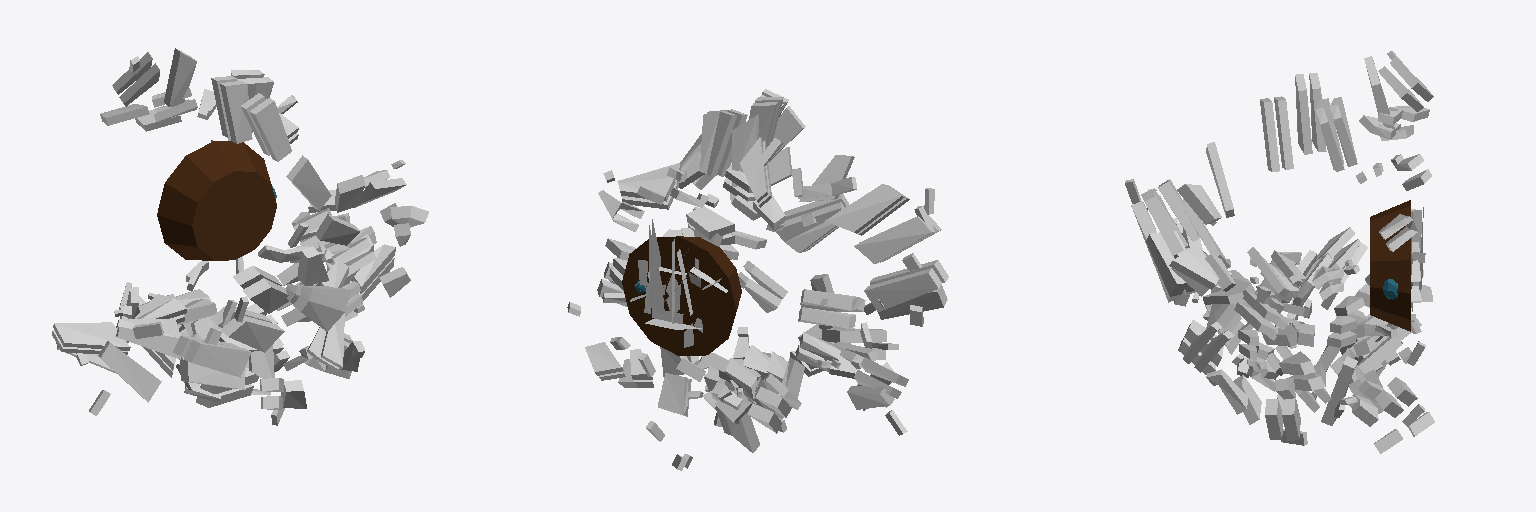
The picture shows the model from 3 angles: view 1: azimuth 30°, elevation 25°; view 2: azimuth 150°, elevation 25°; view 3: azimuth 270°, elevation 25°; orthographic projection.
Visible parts, largest first — view 1: Cone.001_Cone.001_cover, Cone_Cone_cover, Cylinder_Cylinder_Material.001; view 2: Cone_Cone_cover, Cone.001_Cone.001_cover, Cylinder_Cylinder_Material.001, Plane_Plane_Material.003; view 3: Cone.001_Cone.001_cover, Cone_Cone_cover, Cylinder_Cylinder_Material.001, Plane_Plane_Material.003.
Part boxes in pixels (x1,y1,x2,y2): Cone.001_Cone.001_cover: (52,48,406,415); Cone_Cone_cover: (133,175,428,425); Cylinder_Cylinder_Material.001: (157,141,276,260); Cone_Cone_cover: (567,134,948,470); Cone.001_Cone.001_cover: (598,89,934,441); Cylinder_Cylinder_Material.001: (622,236,741,355); Plane_Plane_Material.003: (630,219,727,347); Cone.001_Cone.001_cover: (1125,51,1433,426); Cone_Cone_cover: (1131,179,1434,453); Cylinder_Cylinder_Material.001: (1370,200,1410,331); Plane_Plane_Material.003: (1411,207,1432,311).
Bounding box in the file's own units: 3.24 × 3.39 × 2.61.
Materials: 4 (1 with a texture image).